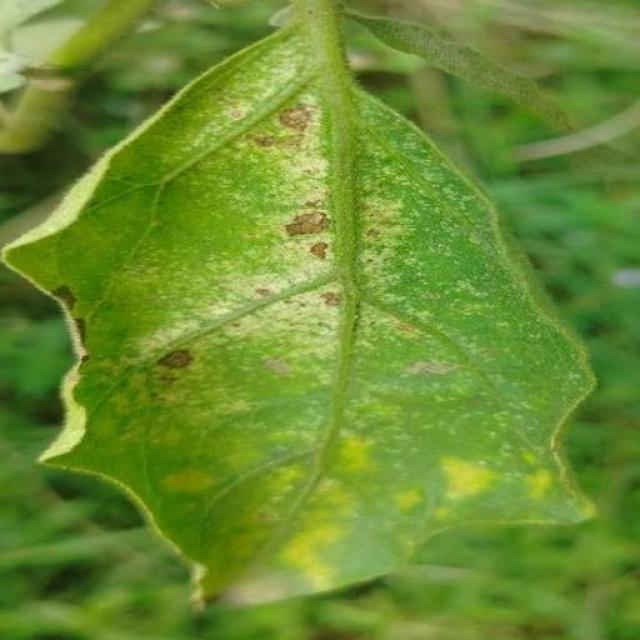leaf_spot: (307, 44, 463, 194), (424, 179, 524, 353), (109, 201, 223, 330), (0, 146, 121, 264), (514, 276, 593, 422), (452, 374, 559, 480), (165, 120, 263, 229), (148, 274, 295, 346), (127, 385, 219, 491), (346, 148, 411, 290), (354, 388, 438, 492), (144, 520, 227, 618), (118, 328, 232, 398), (53, 312, 104, 455), (272, 516, 356, 588), (343, 281, 420, 344), (220, 567, 299, 619), (253, 235, 337, 283), (439, 450, 505, 503), (323, 424, 383, 478), (278, 146, 332, 202), (238, 55, 310, 95), (270, 196, 336, 239), (246, 123, 327, 158), (402, 350, 458, 394), (159, 461, 230, 493), (227, 273, 283, 306), (299, 307, 350, 343), (310, 471, 348, 517), (223, 434, 273, 468), (306, 272, 346, 314), (214, 92, 257, 130), (269, 300, 315, 332), (254, 460, 302, 488), (275, 96, 314, 130), (302, 231, 338, 267), (388, 482, 428, 514), (246, 498, 288, 528), (262, 350, 296, 380)
